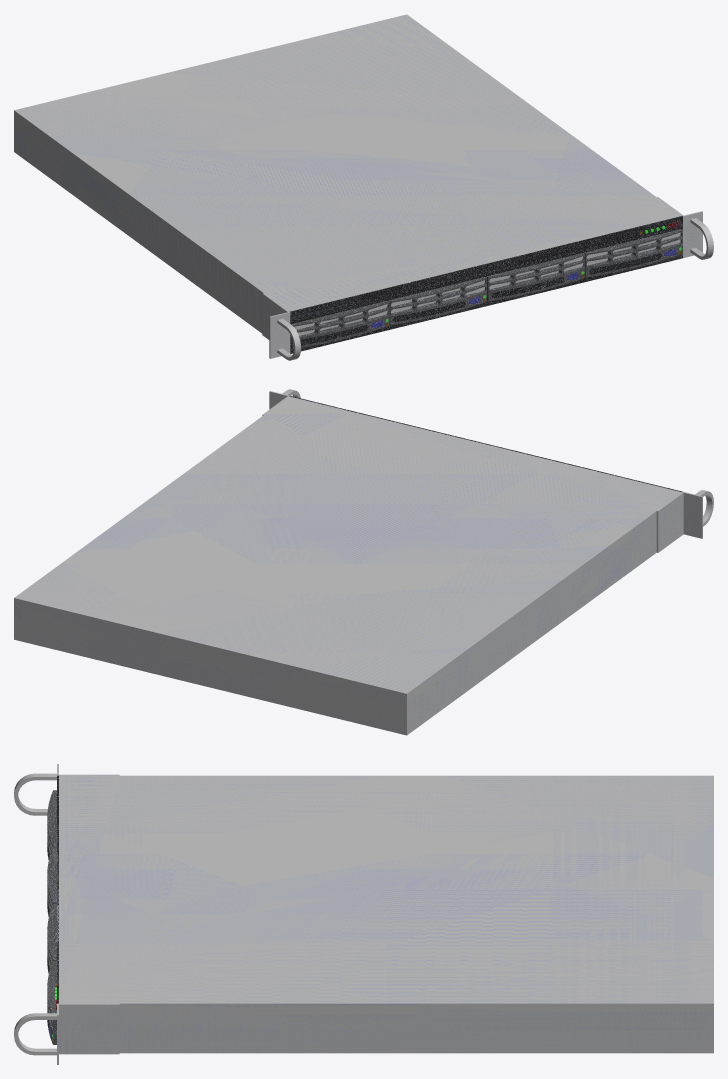
3 renders of one model, top to bottom at view 1: azimuth 30°, elevation 25°; view 2: azimuth 150°, elevation 25°; view 3: azimuth 270°, elevation 25°, orthographic. The views are drawn at different scales.
Parts seen in each view (by area): view 1: SketchUp (×6); view 2: SketchUp (×2); view 3: SketchUp (×5), group_0, group_1.
Boxes of the visible parts, <box> form: SketchUp (×6): <box>14,14,702,358</box>; SketchUp (×2): <box>14,391,702,735</box>; SketchUp (×5): <box>47,764,713,1064</box>; group_0: <box>14,1013,56,1055</box>; group_1: <box>14,773,56,815</box>.
Bounding box in the file's own units: 19 × 22.38 × 1.75.
